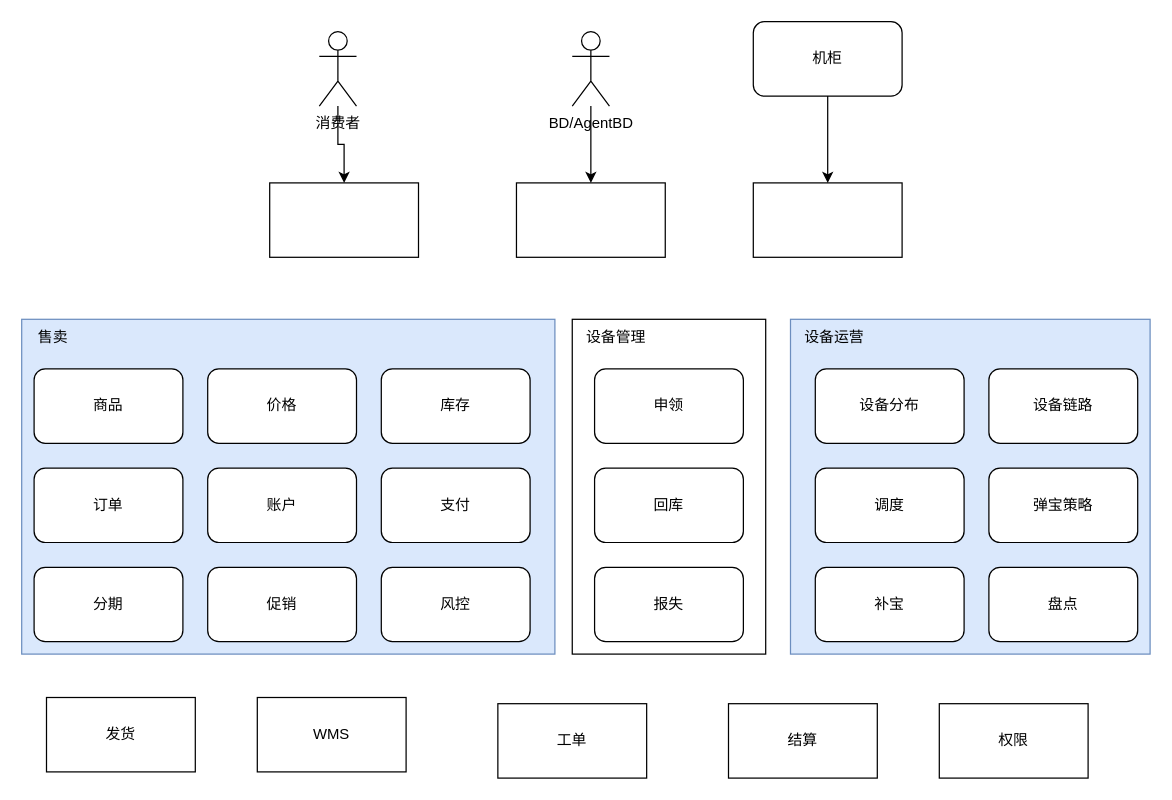
The diagram is 1172 pixels wide and 800 high, and some of its shapes have lost their labels. Each missing label, with the box of its shape:
C端订单: (268, 182, 418, 257)
IOT: (752, 182, 902, 257)
上单&签约: (515, 182, 665, 257)
